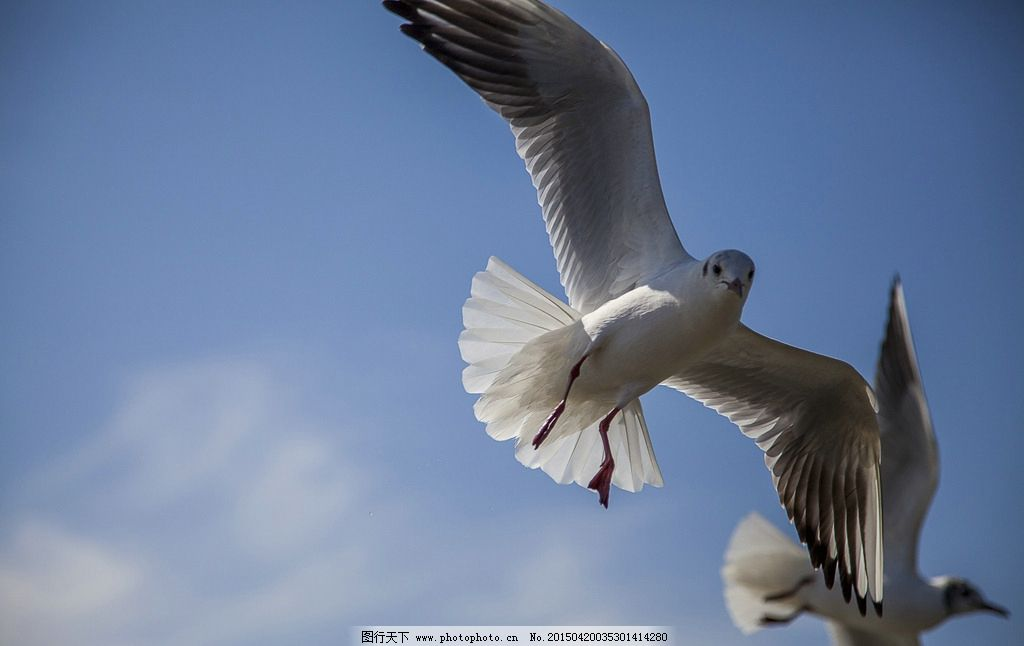bird: (382, 6, 893, 612), (719, 277, 1024, 640)
